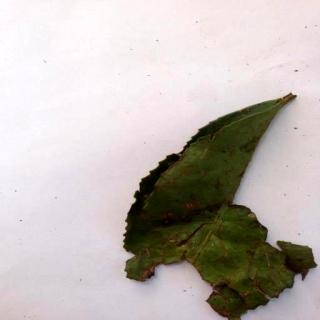Algal Leaf: (126, 95, 320, 320)
